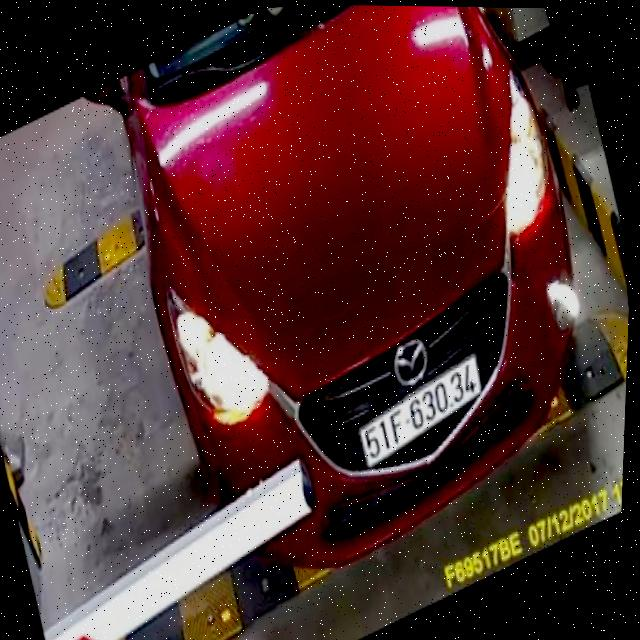car: (74, 5, 587, 577)
plate: (348, 347, 487, 476)
